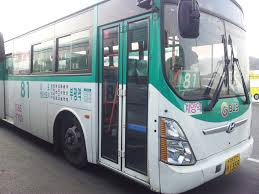entrance: (97, 16, 150, 180)
